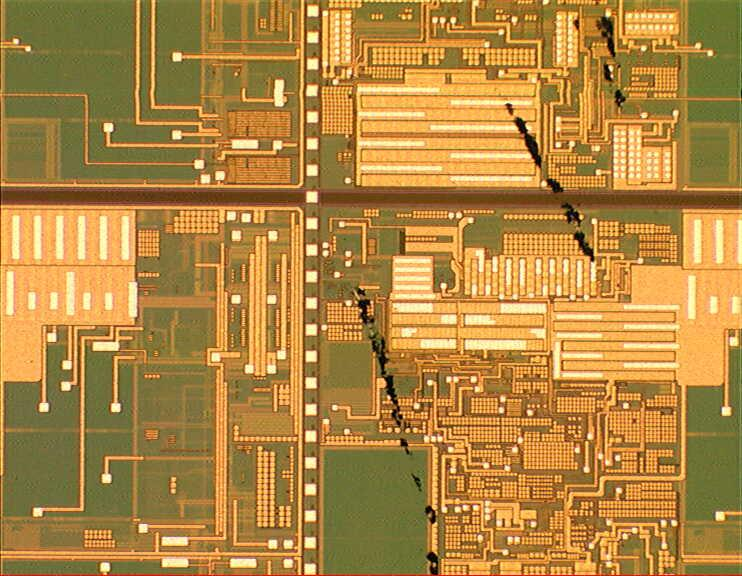SCRATCH: (333, 10, 637, 576)
